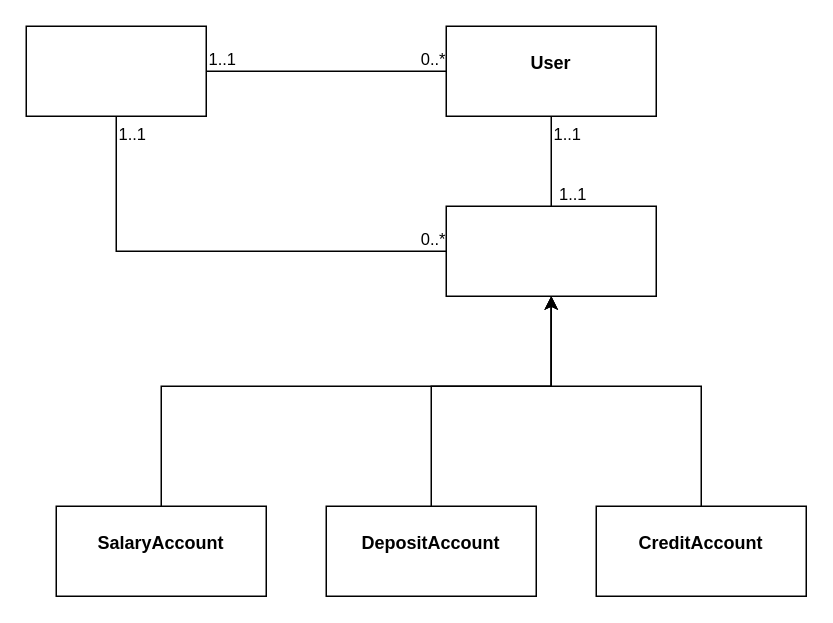
This 833x623 diagram has some shape labels left out. Here are the shapes that lost their labels. From the top down, the box of each, then its label:
(25, 25, 206, 116): Bank
(445, 205, 656, 296): Account
